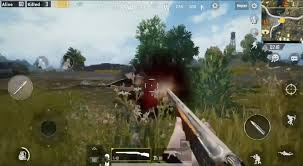Gun: (160, 87, 242, 164)
